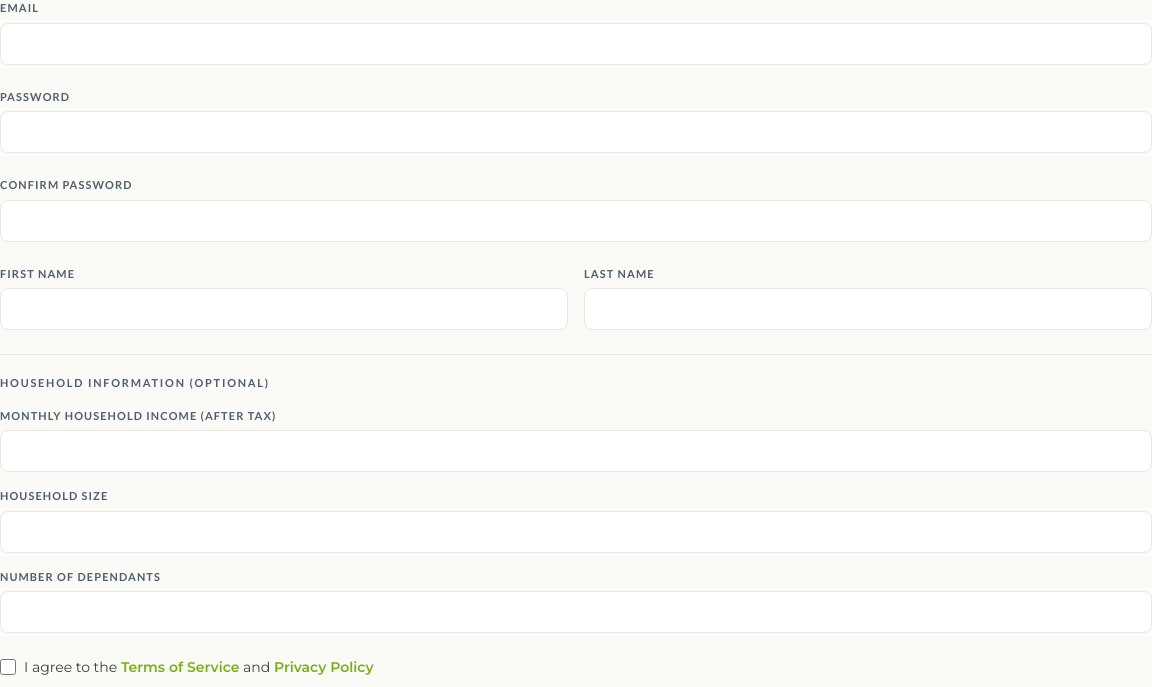
Test: RegisterForm › shows password strength indicator
The width and height of the screenshot is (1152, 687).
Type "StrongPass123!" into the password field labelled "Password". click: (576, 132)
box: x1=0 y1=111 x2=1151 y2=153
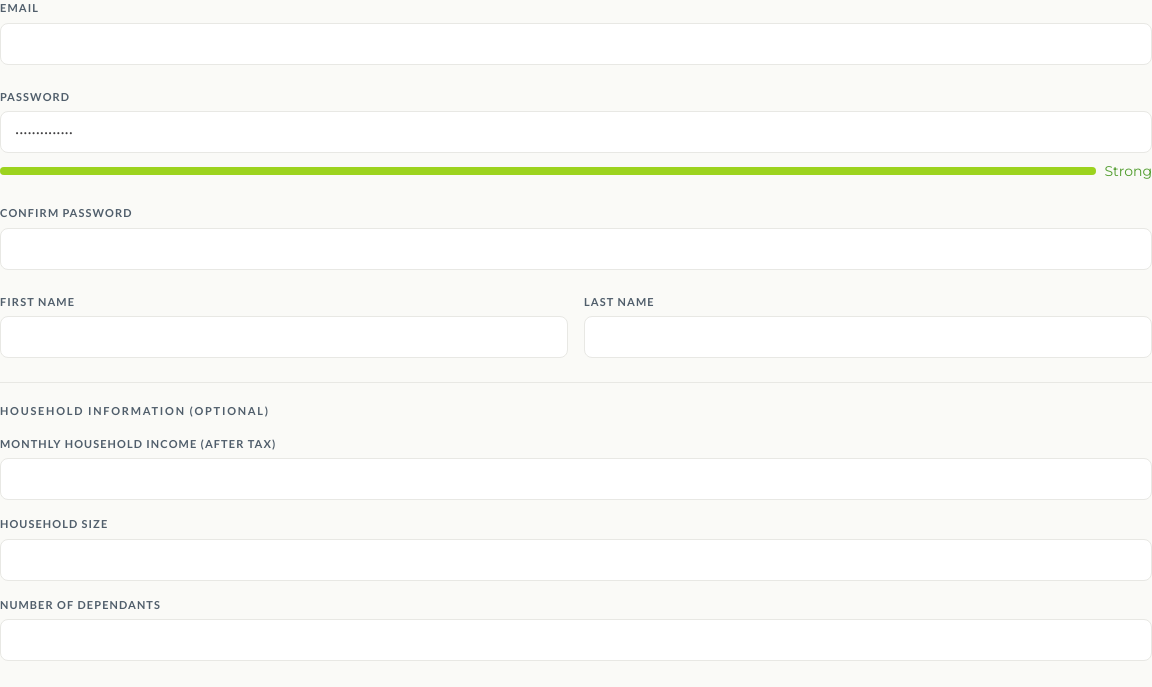
Expected: the text "Strong" is shown, x1=1104 y1=161 x2=1151 y2=181
